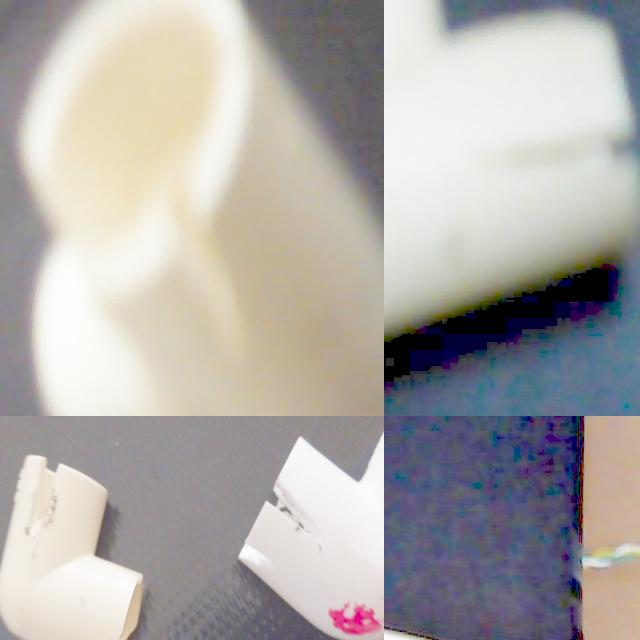Defective: (160, 180, 260, 370), (496, 137, 640, 176), (144, 475, 198, 513)
L Joint: (35, 433, 200, 631)
T Joint: (384, 0, 640, 344)
